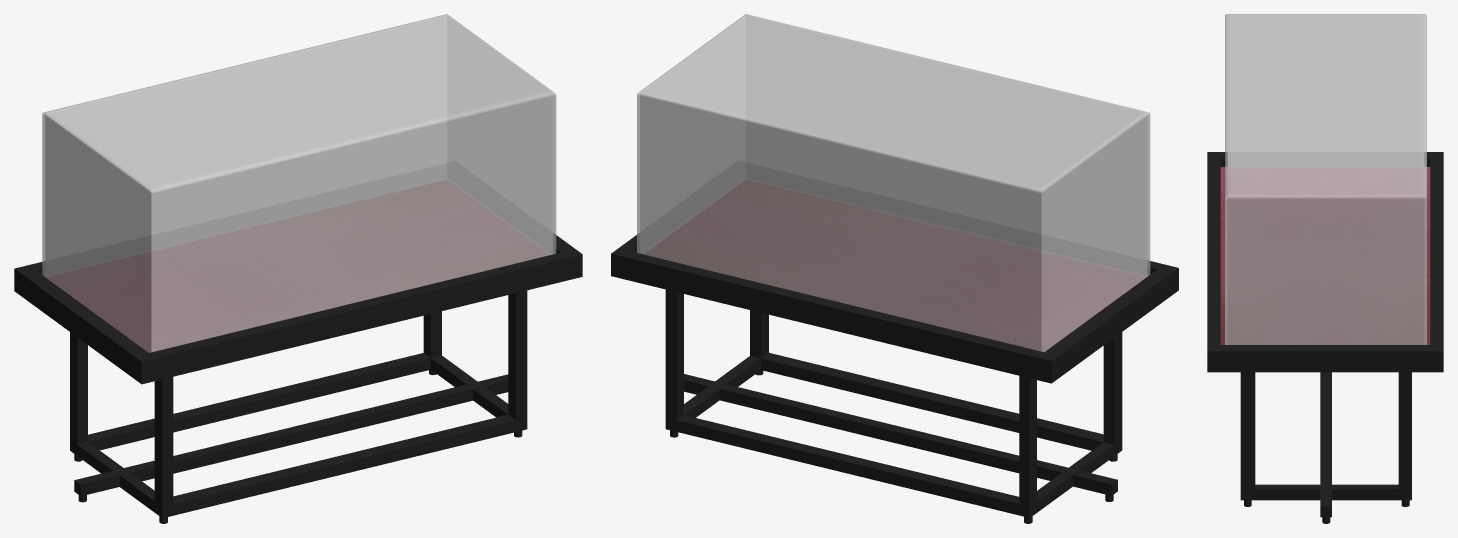
Rendered from mostruario_alto.fbx.
3 renders of one model, left to right at view 1: azimuth 30°, elevation 25°; view 2: azimuth 150°, elevation 25°; view 3: azimuth 270°, elevation 25°, orthographic. The views are drawn at different scales.
Visible parts, largest first — view 1: cupula.001, painel.001; view 2: cupula.001, painel.001; view 3: cupula.001, painel.001.
Boxes of the visible parts, <box> form: cupula.001: <box>42,14,556,352</box>; painel.001: <box>14,180,582,523</box>; cupula.001: <box>637,14,1150,352</box>; painel.001: <box>611,179,1178,523</box>; cupula.001: <box>1225,14,1426,344</box>; painel.001: <box>1207,152,1443,523</box>.
Bounding box in the file's own units: 1200 × 901 × 601.
Materials: 3 (1 with a texture image).
